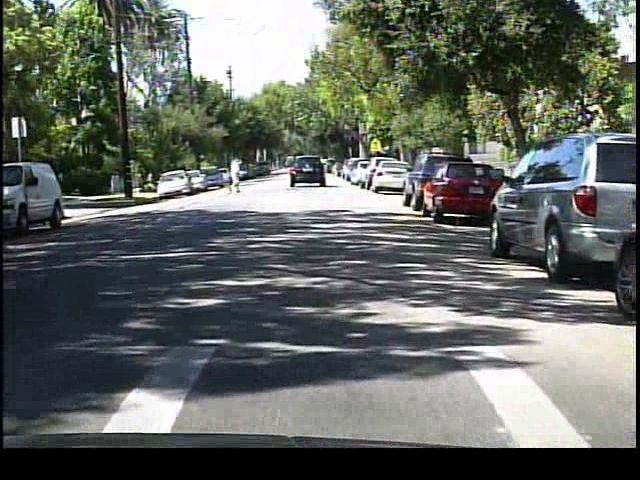person: (225, 152, 247, 195)
